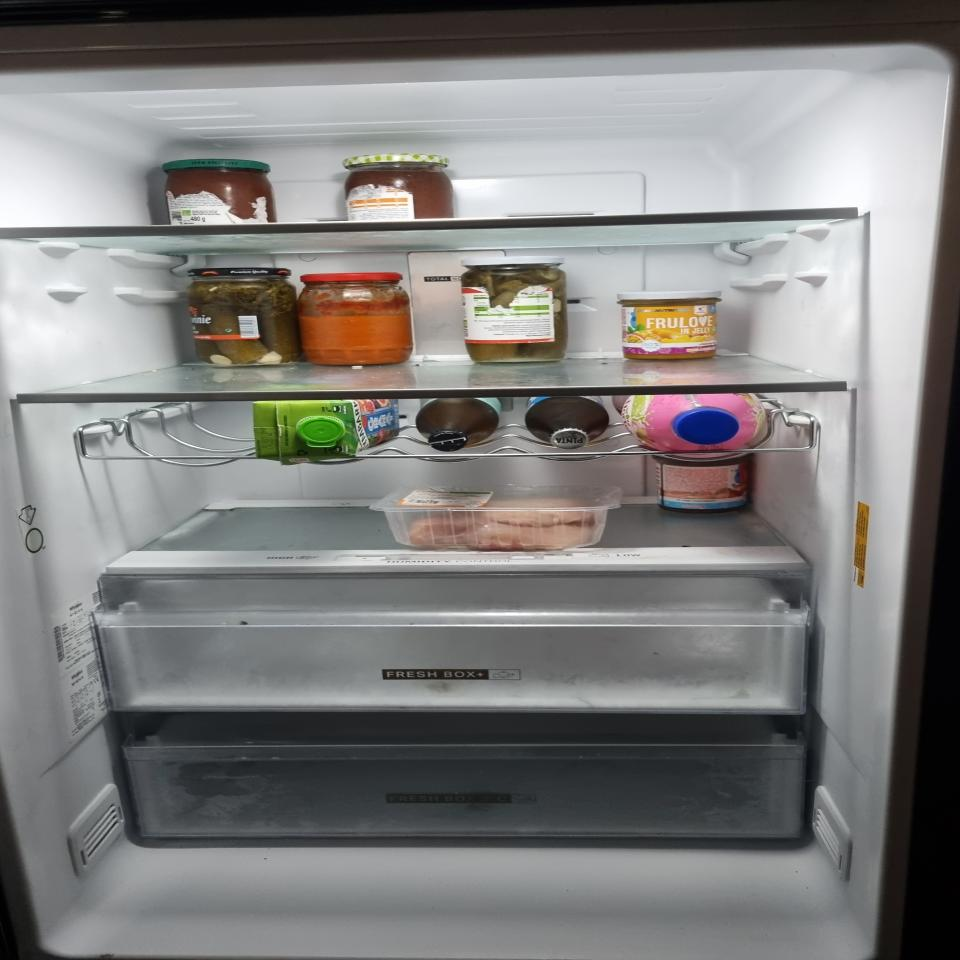Carne pollo: (378, 487, 624, 549)
